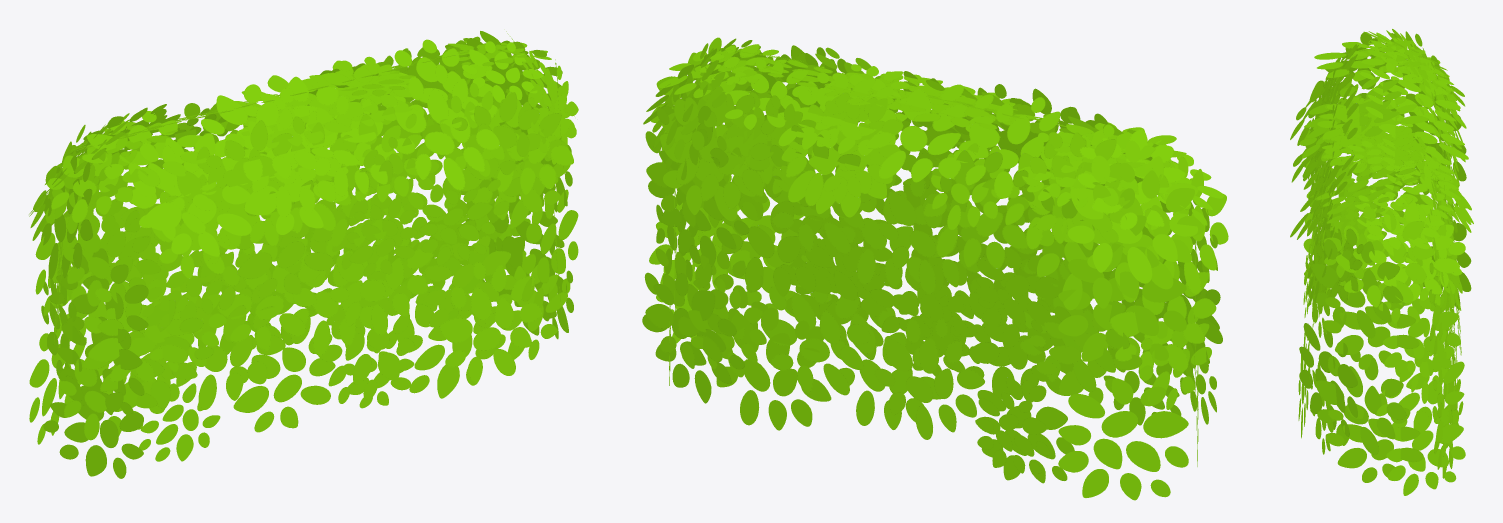
The model's file is Bush_Large.glb.
3 renders of one model, left to right at view 1: azimuth 30°, elevation 25°; view 2: azimuth 150°, elevation 25°; view 3: azimuth 270°, elevation 25°, orthographic. The views are drawn at different scales.
Size of the model in its own units: 1.9 by 1.22 by 0.7239.
Materials: 1 (1 with a texture image).
